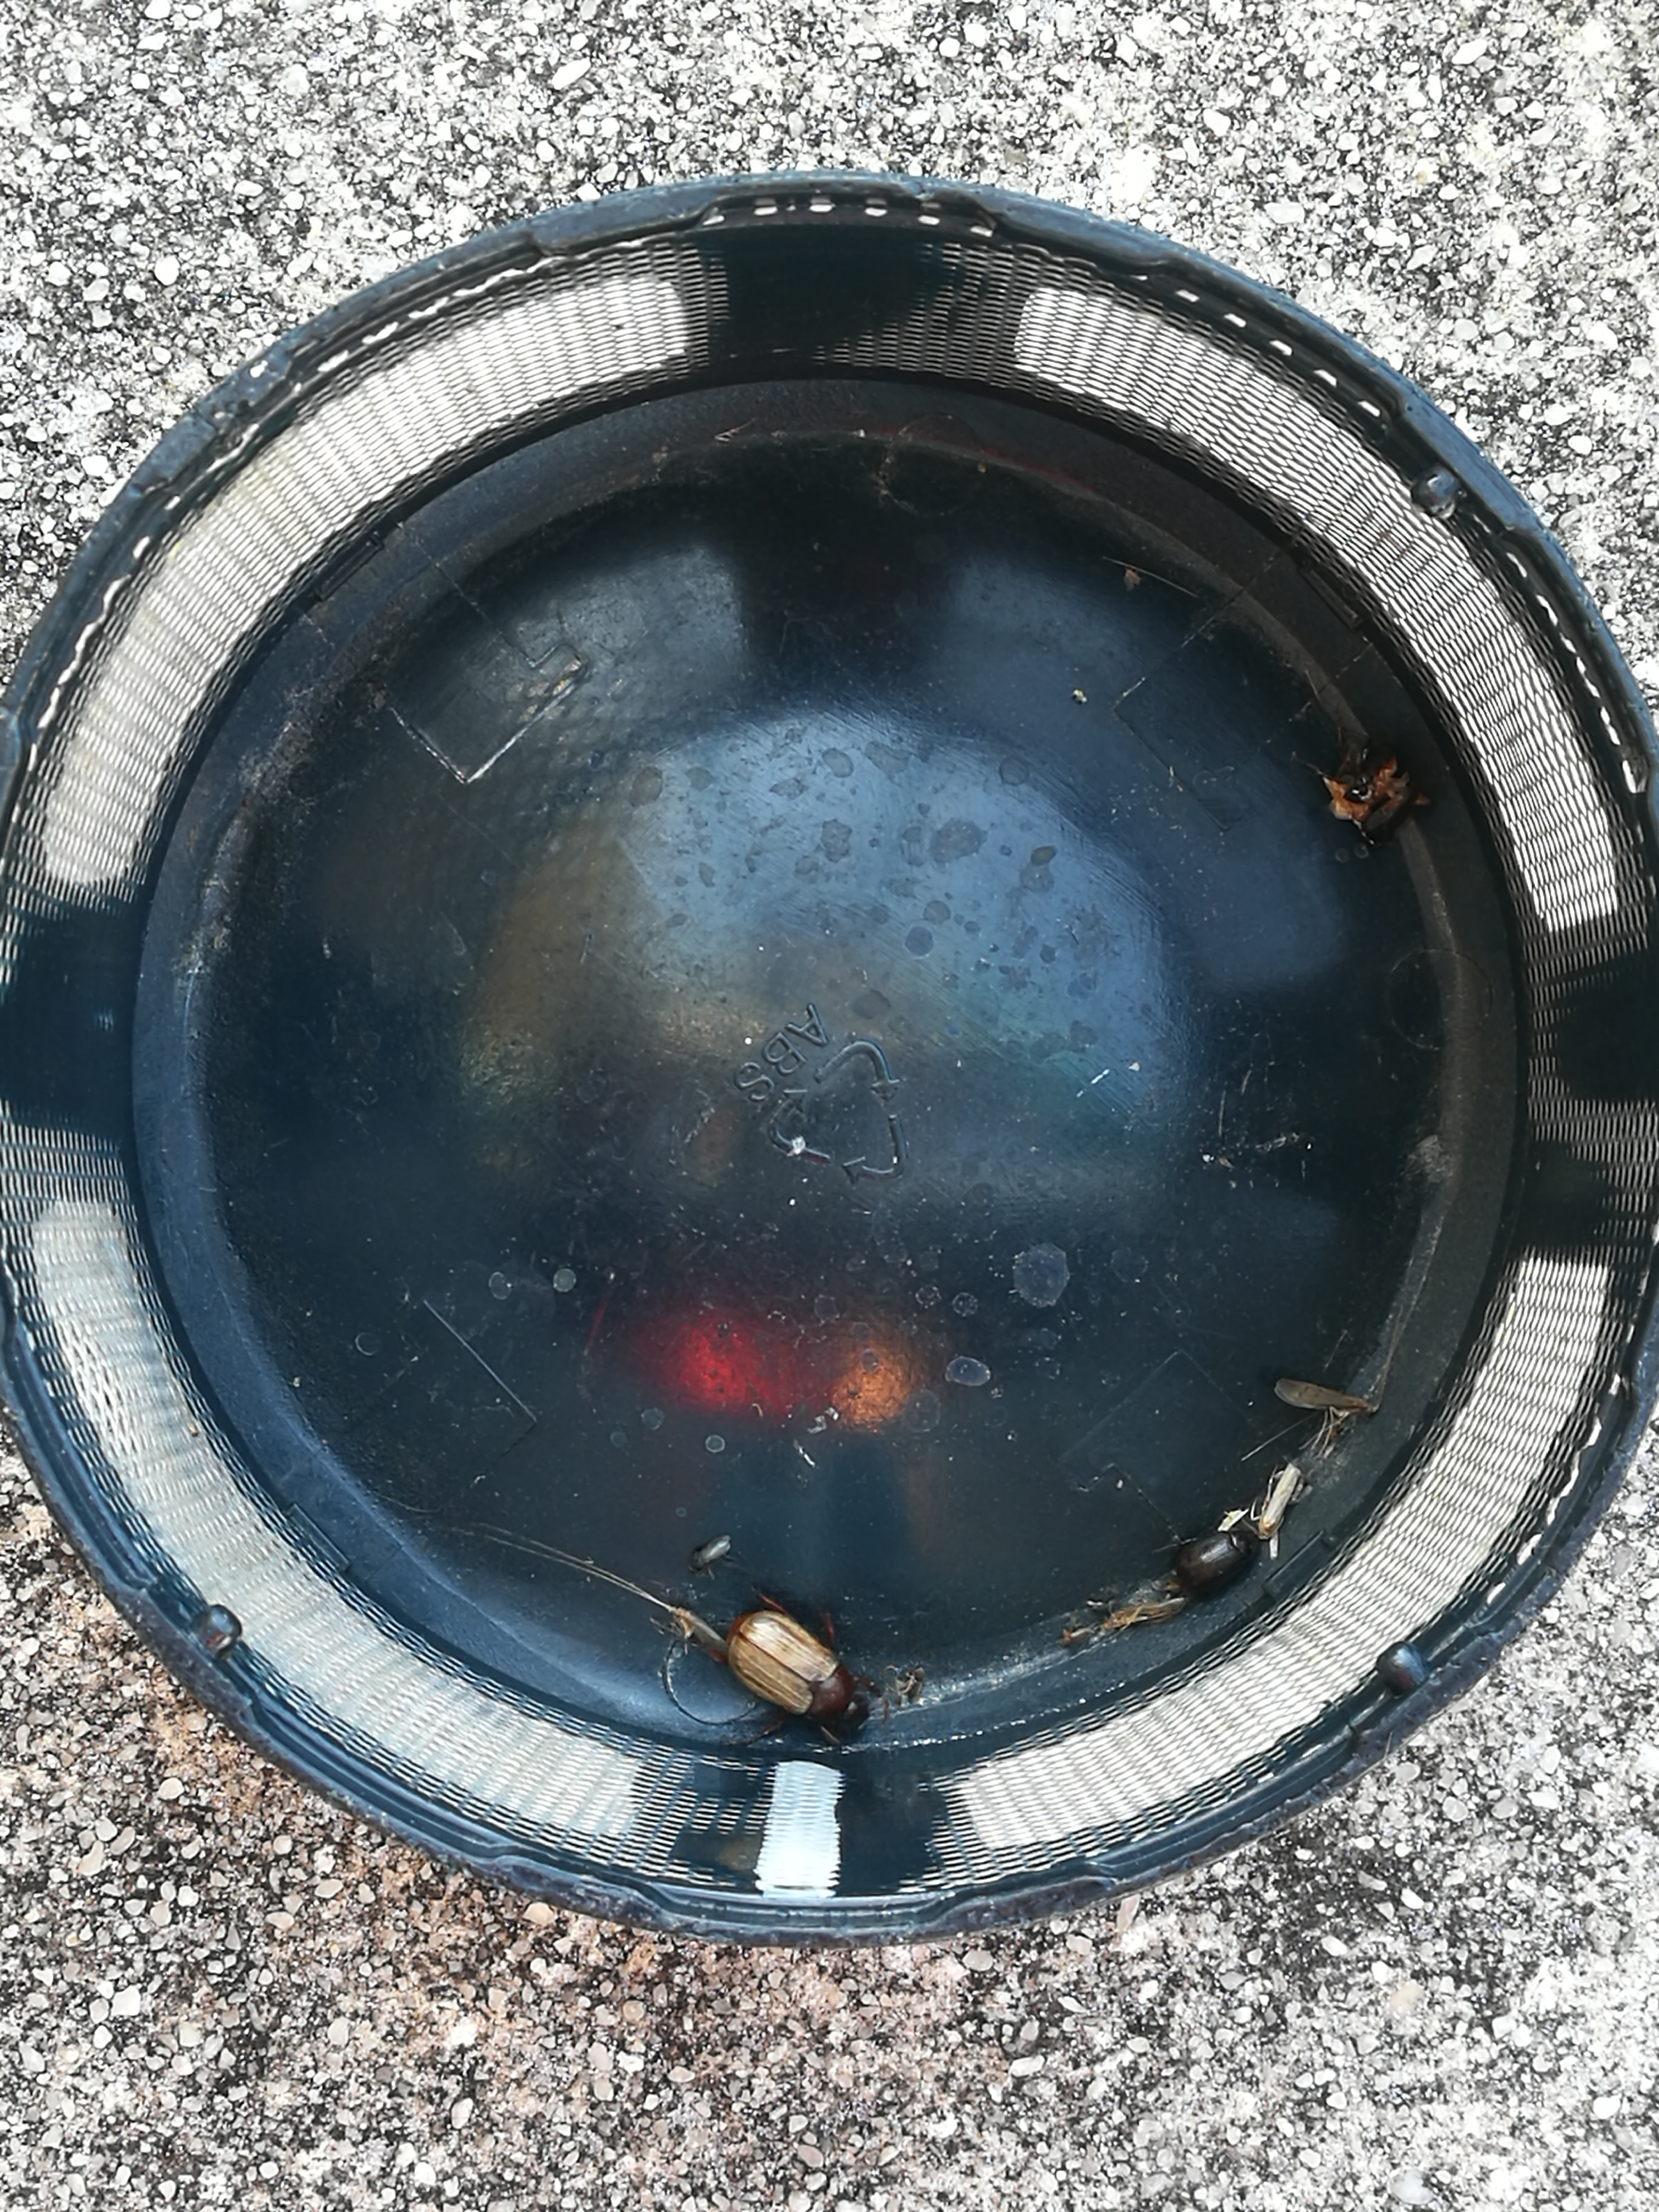beetle: (730, 1613, 864, 1723), (1173, 1533, 1255, 1594)
mosquito: (1274, 1376, 1370, 1407), (671, 1608, 730, 1658), (1260, 1461, 1298, 1538), (1107, 1595, 1187, 1627), (690, 1536, 730, 1571)
